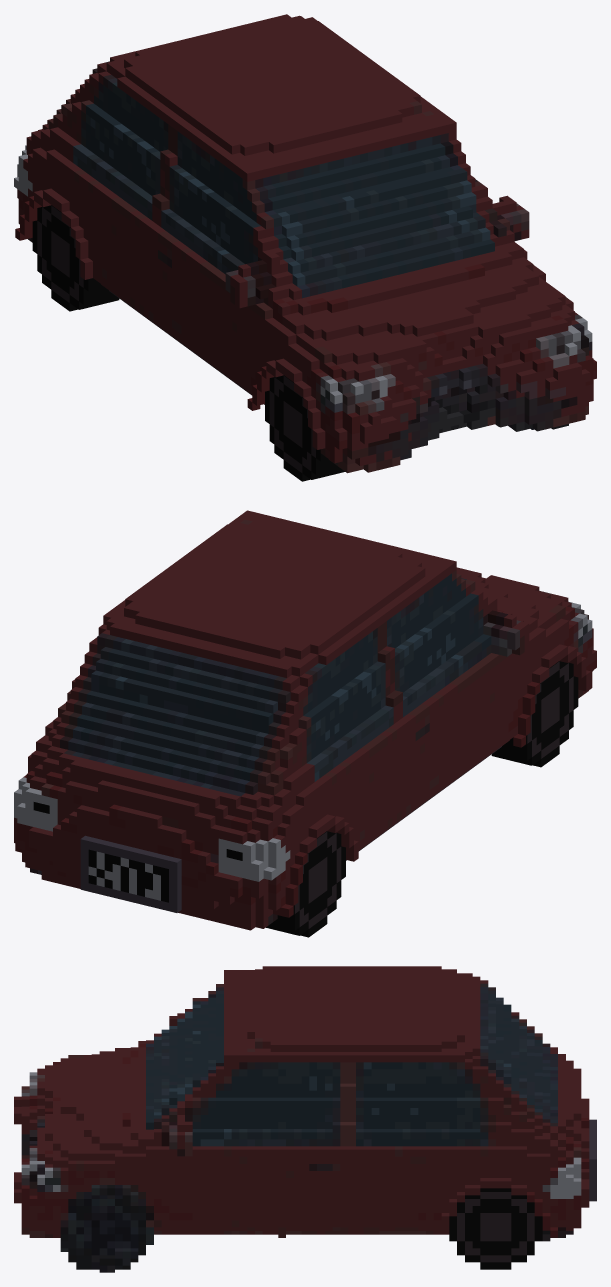
The model's file is CarDamaged.obj.
The picture shows the model from 3 angles, top to bottom: view 1: azimuth 30°, elevation 25°; view 2: azimuth 150°, elevation 25°; view 3: azimuth 270°, elevation 25°; orthographic projection. The views are drawn at different scales.
Parts seen in each view (by area): view 1: high_poly, Untitled.002, Untitled.001; view 2: high_poly, Untitled.001, Untitled.002; view 3: high_poly, Untitled.
Part boxes in pixels (left/top/right/bottom): high_poly: left=14, top=14, right=596, bottom=473; Untitled.002: left=32, top=205, right=119, bottom=311; Untitled.001: left=265, top=375, right=344, bottom=481; high_poly: left=14, top=510, right=596, bottom=930; Untitled.001: left=491, top=661, right=578, bottom=767; Untitled.002: left=266, top=831, right=345, bottom=937; high_poly: left=14, top=966, right=596, bottom=1272; Untitled: left=449, top=1188, right=542, bottom=1269.
Size of the model in its own units: 3.6 by 3 by 7.5.
